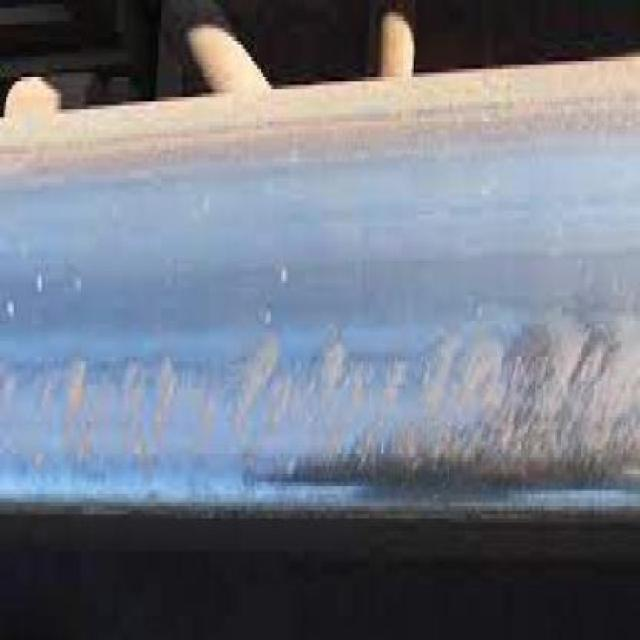defective: (4, 152, 640, 639)
